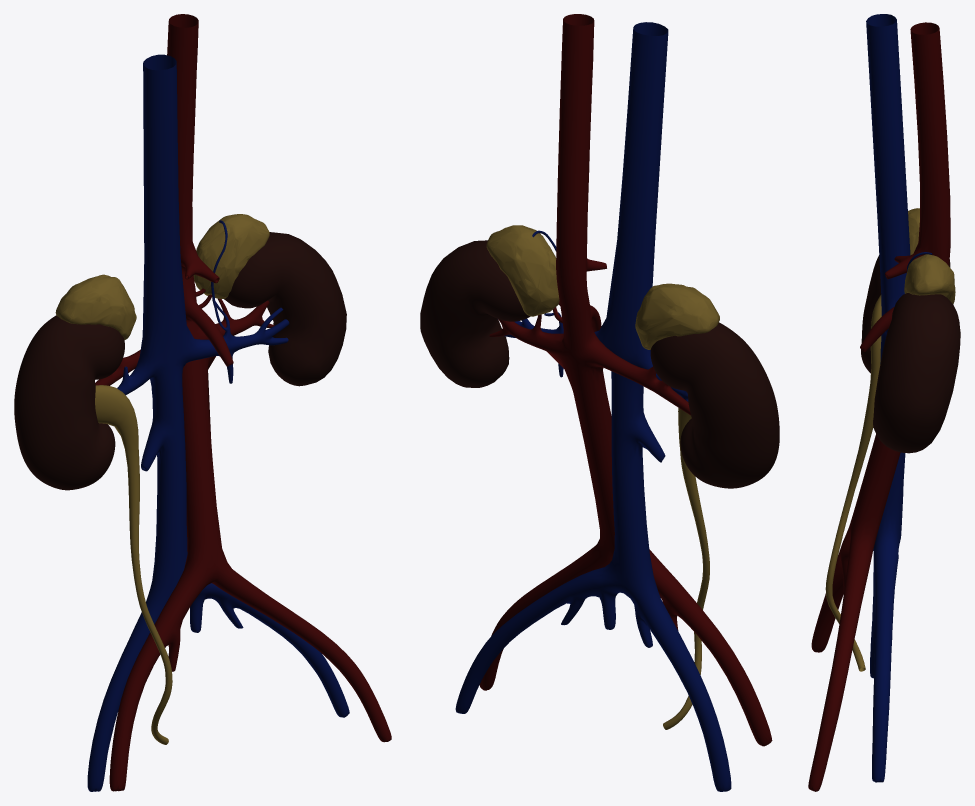
The model's file is Kidneys2.obj.
The picture shows the model from 3 angles, left to right: view 1: azimuth 30°, elevation 25°; view 2: azimuth 150°, elevation 25°; view 3: azimuth 270°, elevation 25°; orthographic projection. The views are drawn at different scales.
Visible parts, largest first — view 1: polySurface57, polySurface56, polySurface54, polySurface55, polySurface53, polySurface61, polySurface60; view 2: polySurface57, polySurface56, polySurface54, polySurface55, polySurface61, polySurface60, polySurface53; view 3: polySurface56, polySurface57, polySurface55, polySurface53, polySurface61, polySurface54, polySurface60.
Part boxes in pixels (box(x1,y1,x2,y2)): polySurface57: box(87, 54, 349, 791); polySurface56: box(95, 14, 391, 791); polySurface54: box(14, 315, 124, 490); polySurface55: box(224, 232, 346, 386); polySurface53: box(95, 385, 172, 744); polySurface61: box(193, 214, 269, 298); polySurface60: box(55, 274, 136, 339); polySurface57: box(455, 22, 731, 791); polySurface56: box(479, 14, 772, 746); polySurface54: box(650, 322, 779, 488); polySurface55: box(420, 240, 530, 387); polySurface61: box(486, 225, 559, 316); polySurface60: box(635, 283, 719, 349); polySurface53: box(663, 396, 709, 729); polySurface56: box(808, 22, 950, 791); polySurface57: box(866, 14, 932, 782); polySurface55: box(873, 293, 960, 453); polySurface53: box(825, 294, 881, 671); polySurface61: box(904, 254, 955, 304); polySurface54: box(861, 255, 950, 373); polySurface60: box(908, 208, 919, 255).
Bounding box in the file's own units: 22.66 × 47.8 × 9.38.
